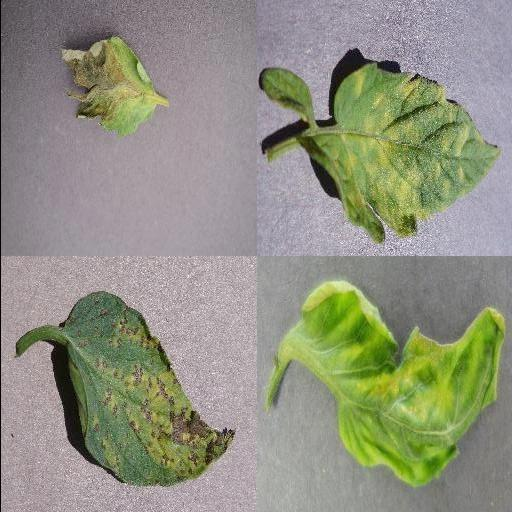Late Blight: (59, 36, 157, 136)
Leaf Mold: (301, 62, 501, 242)
Septoria: (58, 293, 234, 488)
Yellow Leaf Curl Virus: (300, 283, 508, 487)
